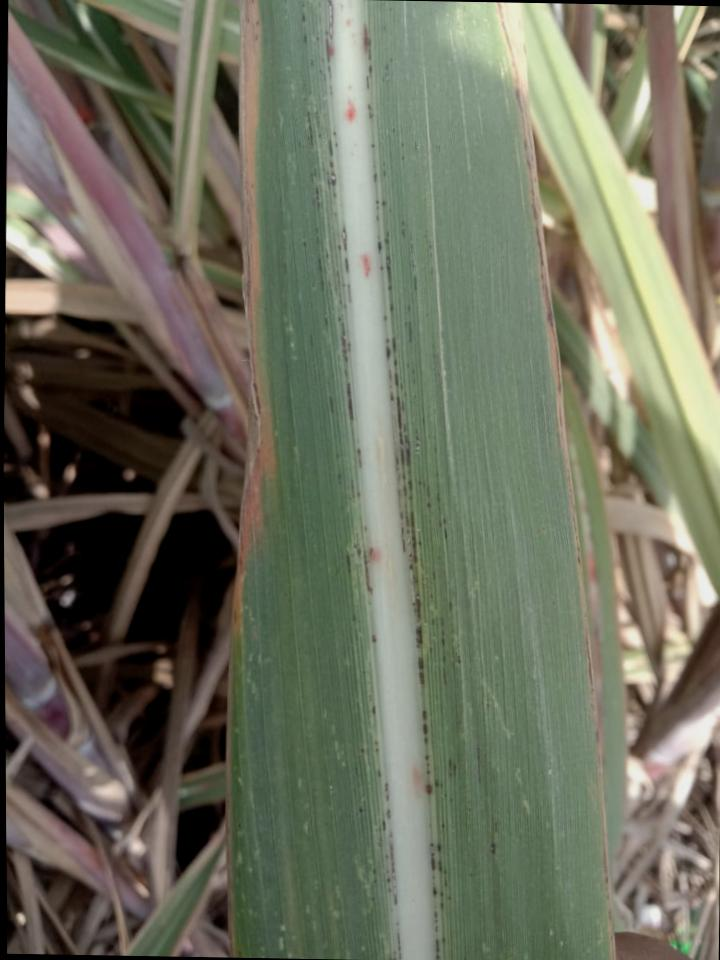RedRot: (356, 252, 374, 282), (339, 96, 358, 123)
Rust: (409, 509, 419, 565), (363, 548, 374, 596), (387, 830, 396, 879), (396, 394, 404, 445), (345, 382, 355, 422), (340, 321, 349, 364), (393, 919, 402, 960), (404, 422, 411, 467), (335, 269, 343, 306), (306, 110, 314, 147), (364, 546, 383, 561), (328, 0, 334, 42), (413, 592, 421, 623), (414, 429, 423, 456), (404, 320, 413, 347), (415, 623, 424, 649), (432, 905, 440, 933), (409, 230, 415, 267), (448, 756, 458, 778), (433, 936, 442, 959), (341, 222, 348, 251), (428, 243, 434, 276), (441, 665, 449, 689), (385, 255, 392, 282), (315, 184, 323, 207), (400, 527, 407, 553), (327, 394, 335, 416), (345, 551, 352, 576), (487, 840, 497, 857), (399, 445, 406, 468), (367, 101, 375, 121), (381, 62, 389, 82), (310, 166, 318, 185), (424, 755, 431, 776), (357, 447, 363, 470), (386, 337, 392, 360), (429, 569, 438, 584), (326, 37, 331, 64), (384, 781, 390, 803), (350, 478, 356, 500), (329, 172, 337, 188), (425, 783, 434, 797), (353, 544, 362, 558), (405, 502, 410, 527), (430, 852, 436, 872), (412, 272, 418, 292), (430, 142, 442, 152), (385, 808, 393, 822), (418, 672, 426, 686), (392, 337, 398, 355), (400, 220, 406, 238), (328, 139, 334, 157), (442, 527, 450, 540), (327, 170, 332, 190), (380, 820, 387, 834), (439, 900, 447, 912), (435, 841, 443, 853), (431, 617, 435, 641), (396, 451, 400, 475), (308, 333, 314, 349), (368, 37, 372, 61), (417, 657, 424, 670), (314, 112, 321, 125), (431, 884, 437, 899), (317, 256, 322, 274), (445, 893, 453, 904), (348, 282, 352, 304), (345, 257, 350, 274), (393, 892, 399, 906), (442, 877, 449, 889), (370, 633, 377, 645), (351, 611, 357, 625), (406, 479, 413, 491), (356, 805, 364, 815), (354, 626, 358, 646), (426, 484, 431, 500), (394, 372, 399, 388), (301, 11, 307, 24), (448, 600, 453, 615), (437, 861, 443, 873), (422, 710, 428, 722), (337, 473, 343, 485), (456, 654, 461, 668), (440, 637, 447, 647), (373, 171, 378, 185), (328, 160, 335, 170), (368, 64, 373, 78), (441, 936, 447, 947), (422, 723, 428, 734), (377, 241, 382, 254), (388, 367, 392, 383), (328, 65, 332, 81), (440, 822, 447, 831), (359, 747, 366, 756), (427, 645, 434, 654), (439, 890, 445, 900), (377, 767, 382, 779), (442, 517, 448, 527), (426, 502, 432, 512), (302, 240, 308, 250), (329, 84, 334, 96), (430, 874, 438, 881), (348, 341, 352, 355), (386, 284, 393, 292), (384, 237, 391, 245), (321, 279, 325, 293), (363, 524, 368, 535), (344, 367, 349, 378), (385, 876, 391, 885), (434, 779, 440, 788), (388, 56, 394, 65), (403, 484, 407, 497), (391, 390, 395, 403), (372, 867, 377, 877), (372, 705, 377, 715), (323, 315, 328, 325), (379, 264, 384, 274), (303, 34, 308, 44), (442, 792, 449, 799), (370, 142, 377, 149), (439, 782, 445, 790), (423, 736, 429, 744), (316, 234, 320, 246), (345, 19, 351, 27), (300, 0, 306, 8), (391, 125, 397, 133), (406, 360, 411, 369), (383, 314, 388, 323), (390, 303, 395, 312), (401, 400, 405, 411), (439, 629, 445, 636), (441, 656, 447, 663), (418, 540, 424, 547), (313, 227, 319, 234), (366, 75, 369, 89), (368, 693, 372, 703), (400, 511, 404, 521), (382, 199, 387, 207), (312, 197, 316, 207), (323, 72, 327, 82), (414, 141, 418, 151), (429, 842, 435, 848), (373, 879, 379, 885), (402, 472, 406, 481), (406, 469, 412, 475), (325, 250, 329, 259), (332, 131, 338, 137), (255, 33, 259, 42), (449, 797, 454, 804), (337, 244, 342, 251), (388, 150, 393, 157), (418, 479, 422, 487), (400, 383, 404, 391), (394, 359, 398, 367), (407, 304, 411, 312), (376, 214, 380, 222), (332, 192, 336, 200), (310, 58, 314, 66), (256, 19, 260, 27), (387, 888, 392, 894), (443, 869, 448, 875), (385, 854, 390, 860), (373, 741, 379, 746), (437, 506, 442, 512), (408, 495, 413, 501), (335, 453, 340, 459), (383, 169, 386, 179), (397, 474, 401, 481), (404, 391, 408, 398), (401, 156, 405, 163), (383, 24, 387, 31), (373, 164, 377, 171), (298, 142, 302, 149), (386, 213, 388, 226), (405, 529, 410, 534), (388, 384, 393, 389), (356, 492, 360, 498), (343, 302, 347, 308), (401, 142, 405, 148), (316, 36, 320, 42), (321, 58, 325, 64), (317, 133, 321, 139), (387, 231, 390, 238), (335, 140, 338, 147), (375, 748, 379, 753), (375, 200, 380, 204), (375, 206, 380, 210), (251, 0, 255, 5), (342, 282, 345, 288), (386, 870, 389, 875), (383, 162, 386, 167), (325, 30, 328, 35), (348, 497, 351, 500)
